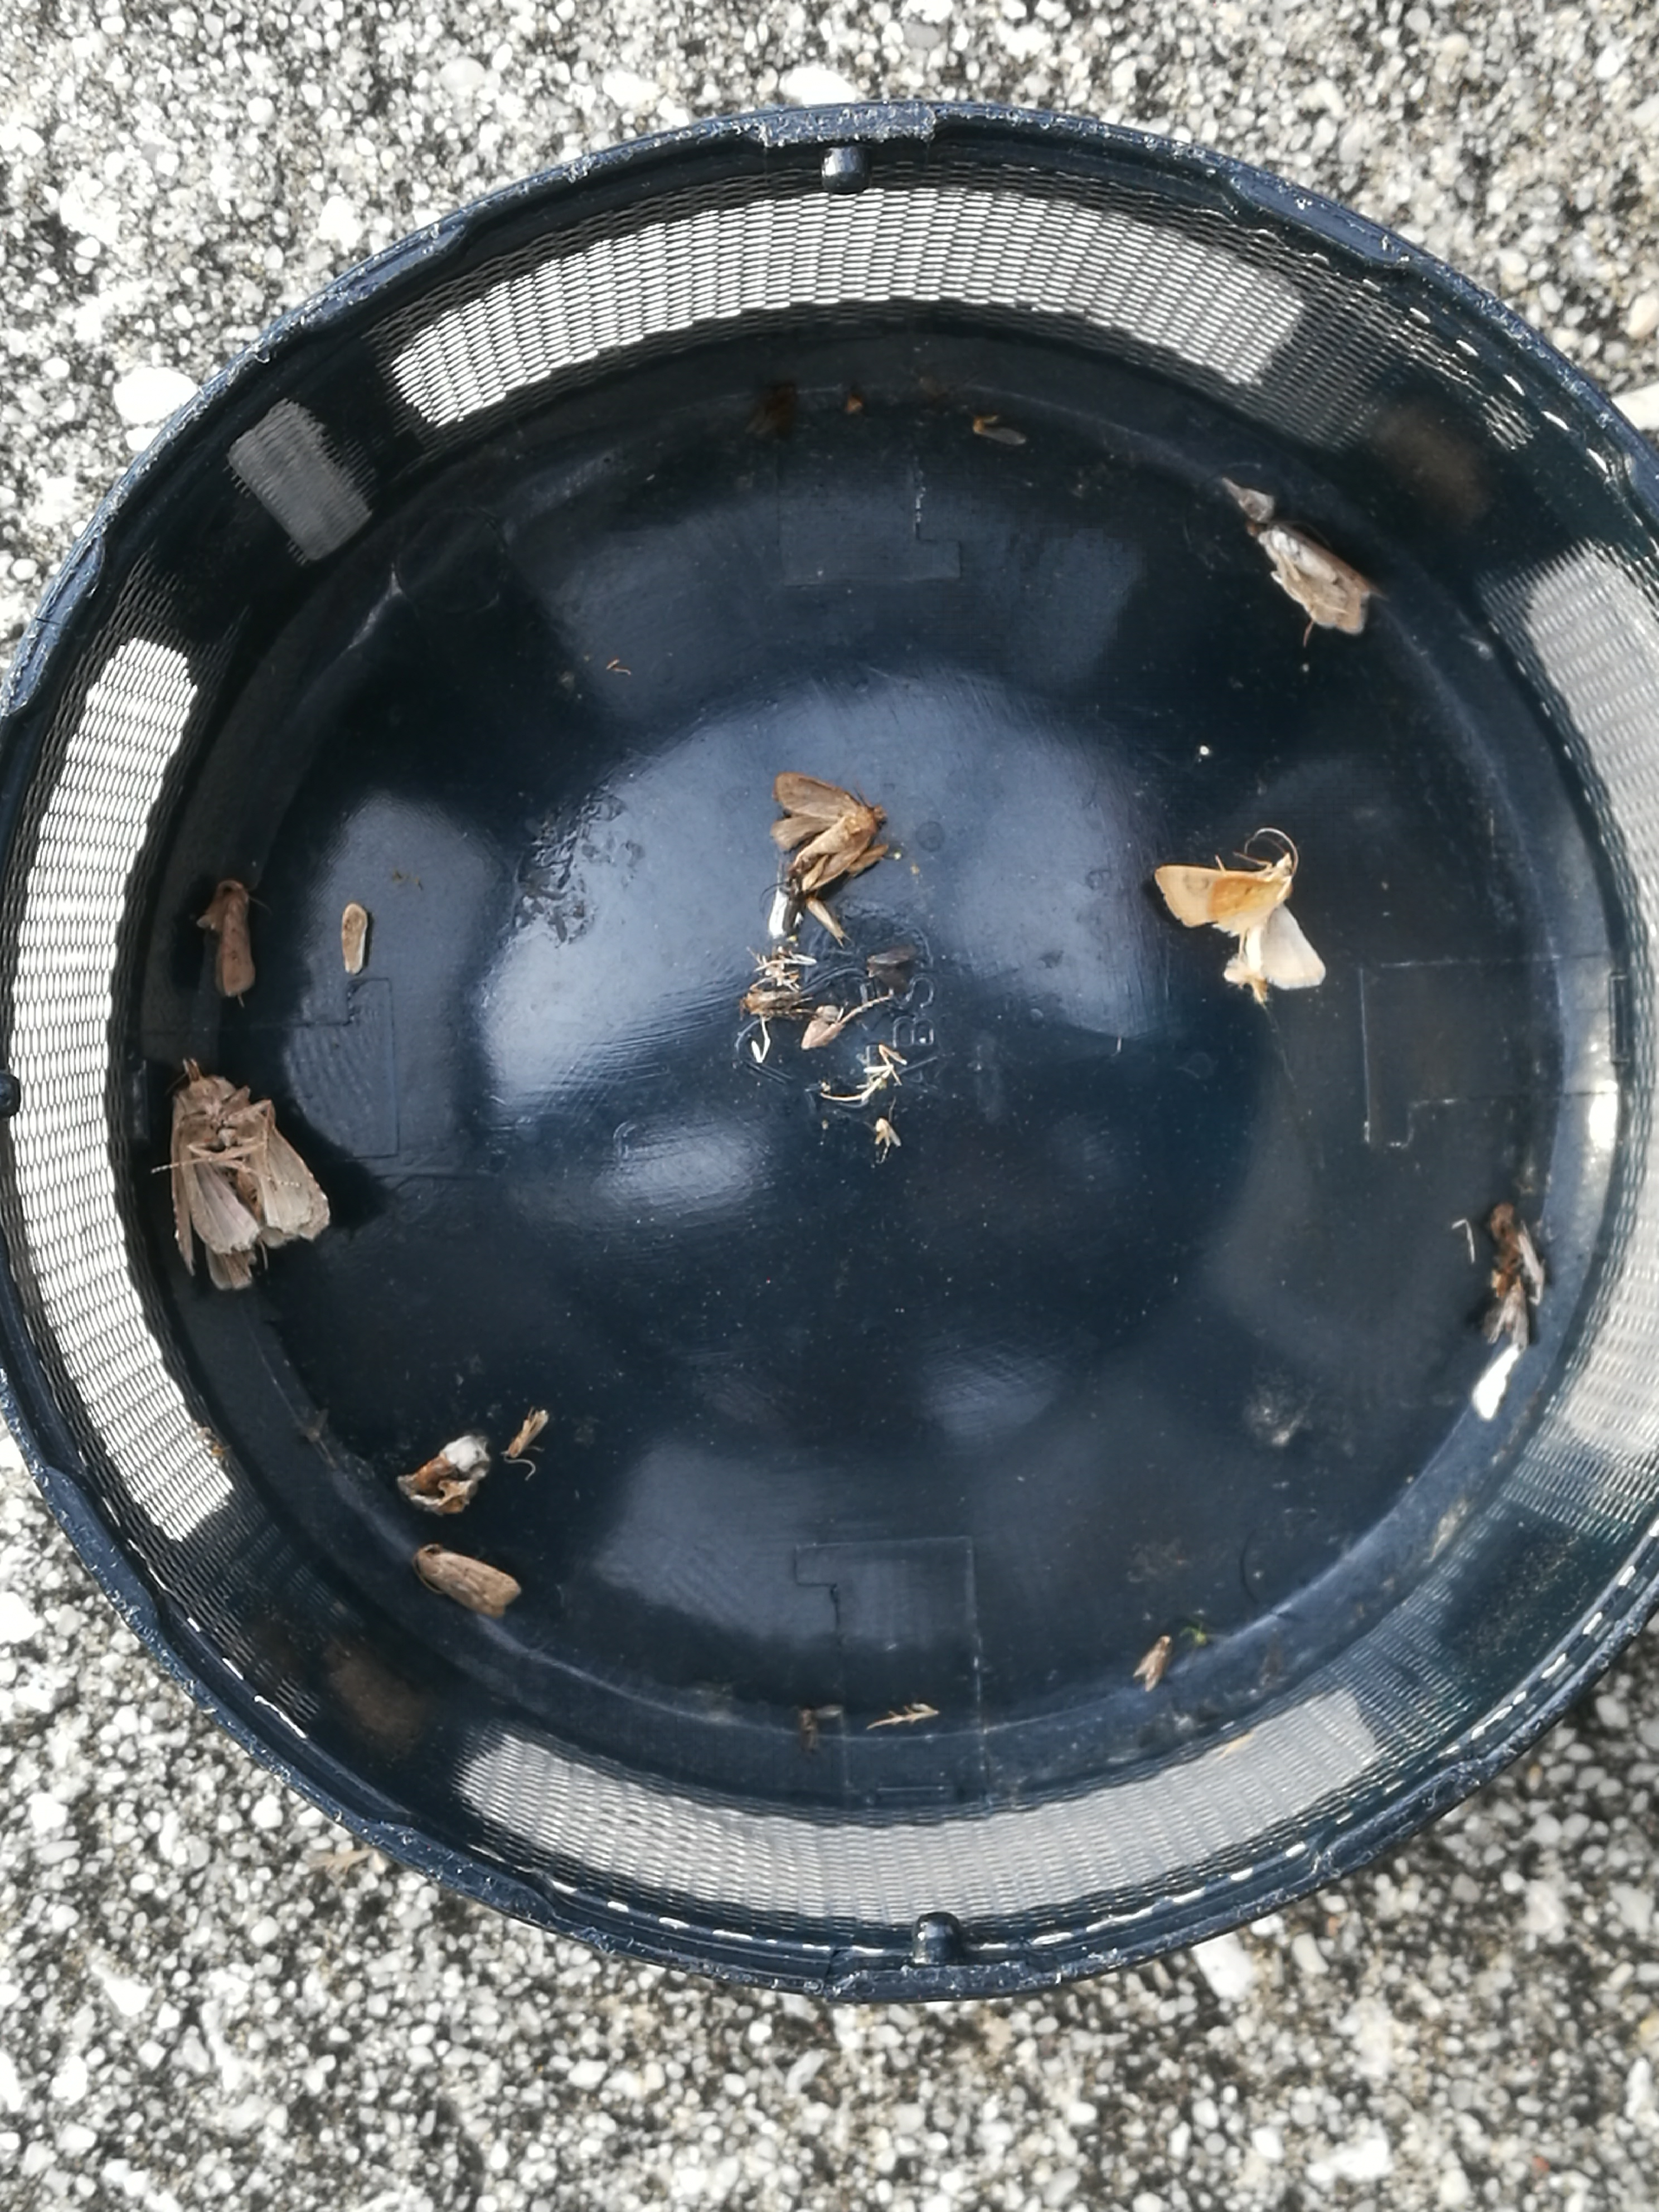moth: (173, 1075, 326, 1284), (1155, 852, 1326, 993), (777, 773, 882, 897), (1258, 526, 1375, 634), (418, 1545, 516, 1616), (202, 876, 251, 995)
